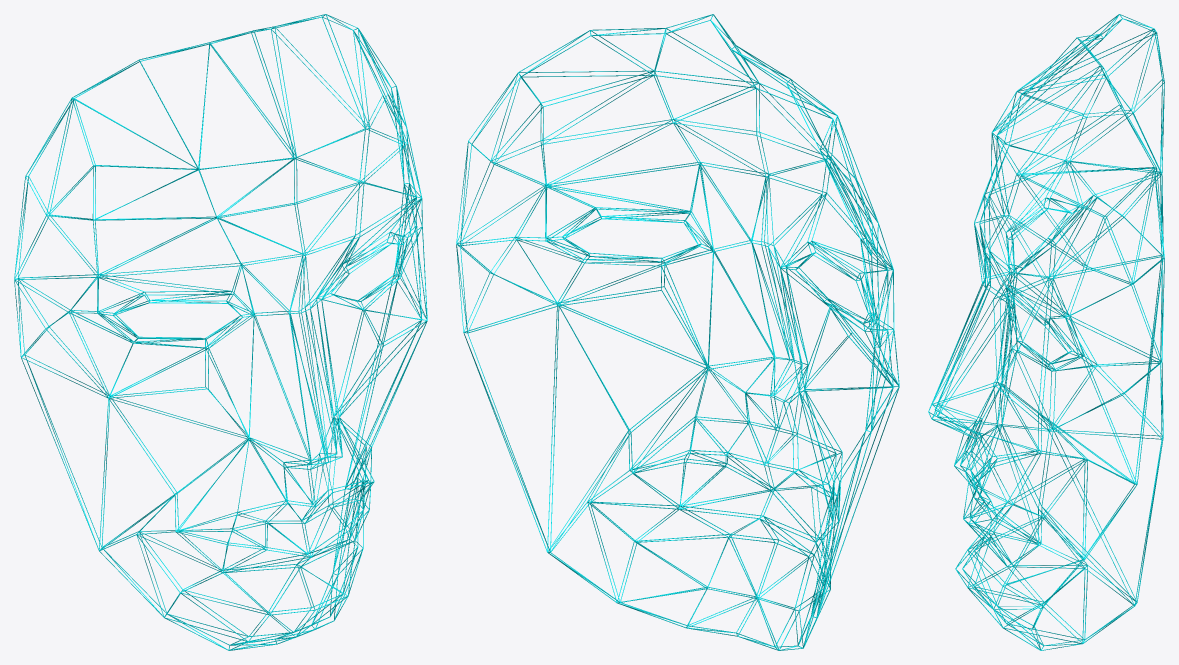
Rendered from maskWireframe.glb.
3 renders of one model, left to right at view 1: azimuth 30°, elevation 25°; view 2: azimuth 150°, elevation 25°; view 3: azimuth 270°, elevation 25°, orthographic. The views are drawn at different scales.
Parts seen in each view (by area): view 1: Cube.002_4.001; view 2: Cube.002_4.001; view 3: Cube.002_4.001.
Boxes of the visible parts, x1,y1,x2,y2 form: Cube.002_4.001: [14, 14, 427, 650]; Cube.002_4.001: [456, 14, 899, 650]; Cube.002_4.001: [928, 14, 1164, 650].
Bounding box in the file's own units: 2.58 × 3.72 × 1.35.
